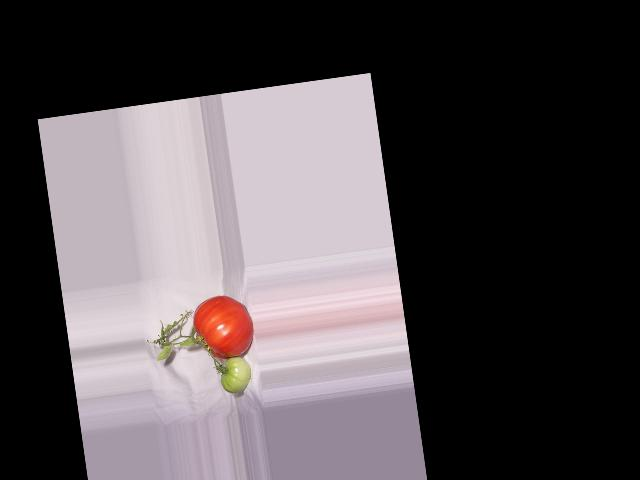tomato: (190, 291, 256, 363)
